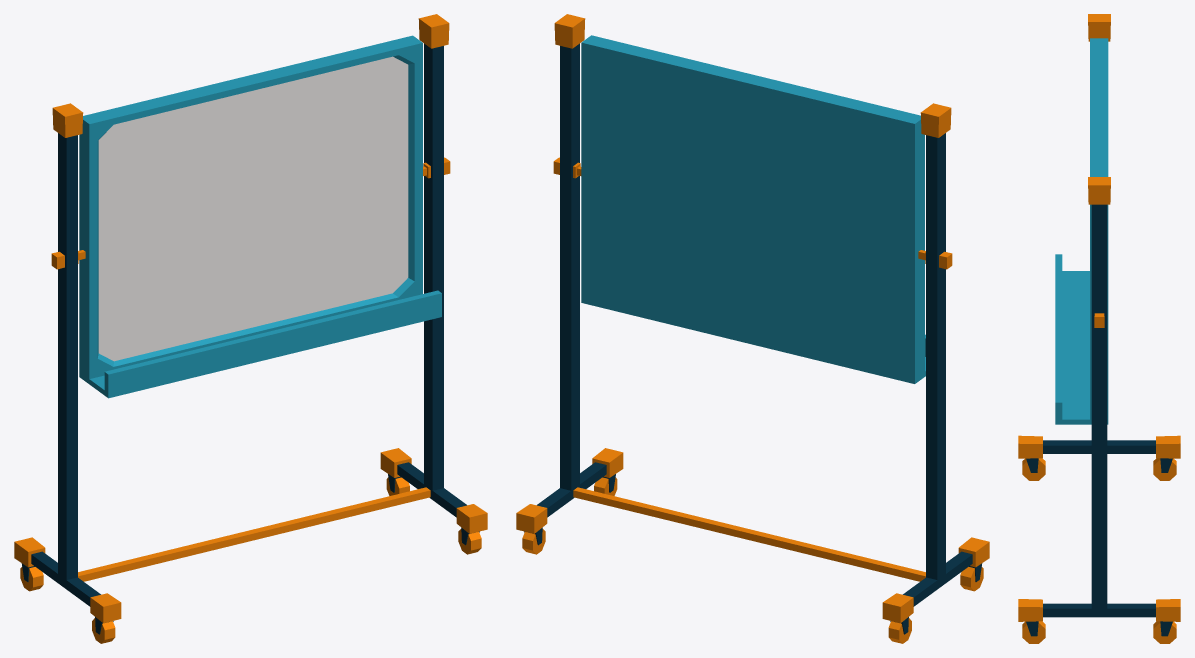
The model's file is White_Board.FBX.
3 views of the same model, side by side, from view 1: azimuth 30°, elevation 25°; view 2: azimuth 150°, elevation 25°; view 3: azimuth 270°, elevation 25° (orthographic). The views are drawn at different scales.
Visible parts, largest first — view 1: White_Board; view 2: White_Board; view 3: White_Board.
Part boxes in pixels (x1=…): White_Board: x1=14, y1=14, x2=487, y2=643; White_Board: x1=516, y1=14, x2=989, y2=643; White_Board: x1=1018, y1=14, x2=1180, y2=643.
Size of the model in its own units: 1.99 by 2.44 by 0.7791.
